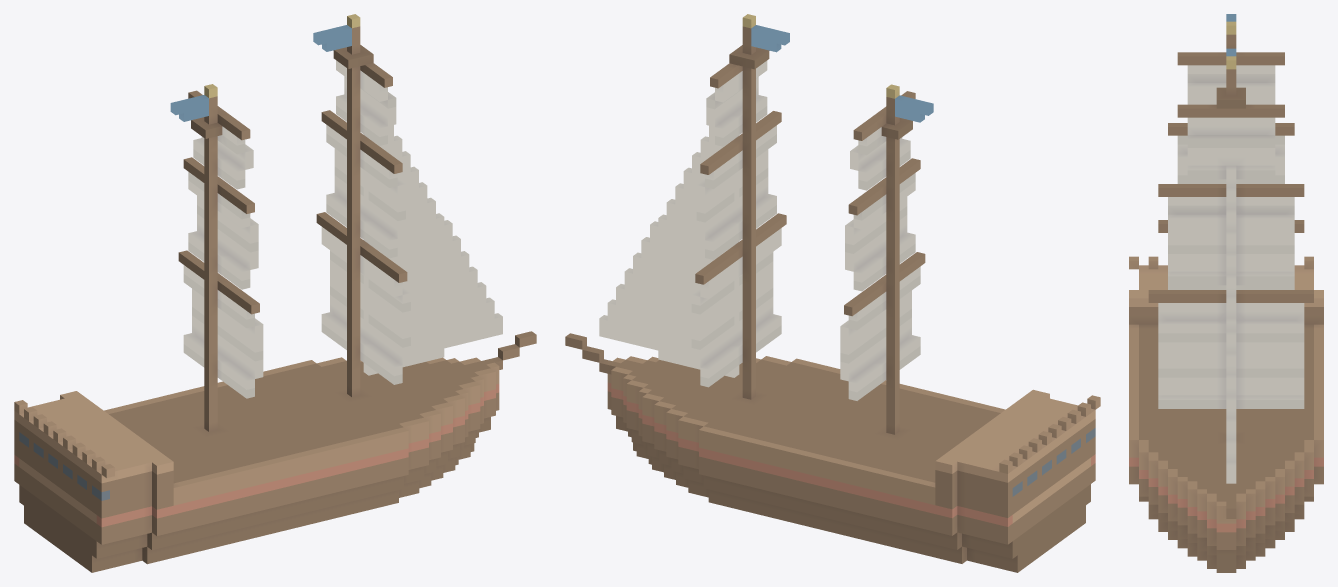
The model's file is brig.glb.
The picture shows the model from 3 angles, left to right: view 1: azimuth 30°, elevation 25°; view 2: azimuth 150°, elevation 25°; view 3: azimuth 270°, elevation 25°; orthographic projection.
Parts seen in each view (by area): view 1: brig; view 2: brig; view 3: brig.
Part boxes in pixels (left/top/right/bottom): brig: left=14, top=14, right=536, bottom=572; brig: left=565, top=14, right=1100, bottom=572; brig: left=1129, top=14, right=1323, bottom=572.
Bounding box in the file's own units: 2.85 × 2.6 × 1.
